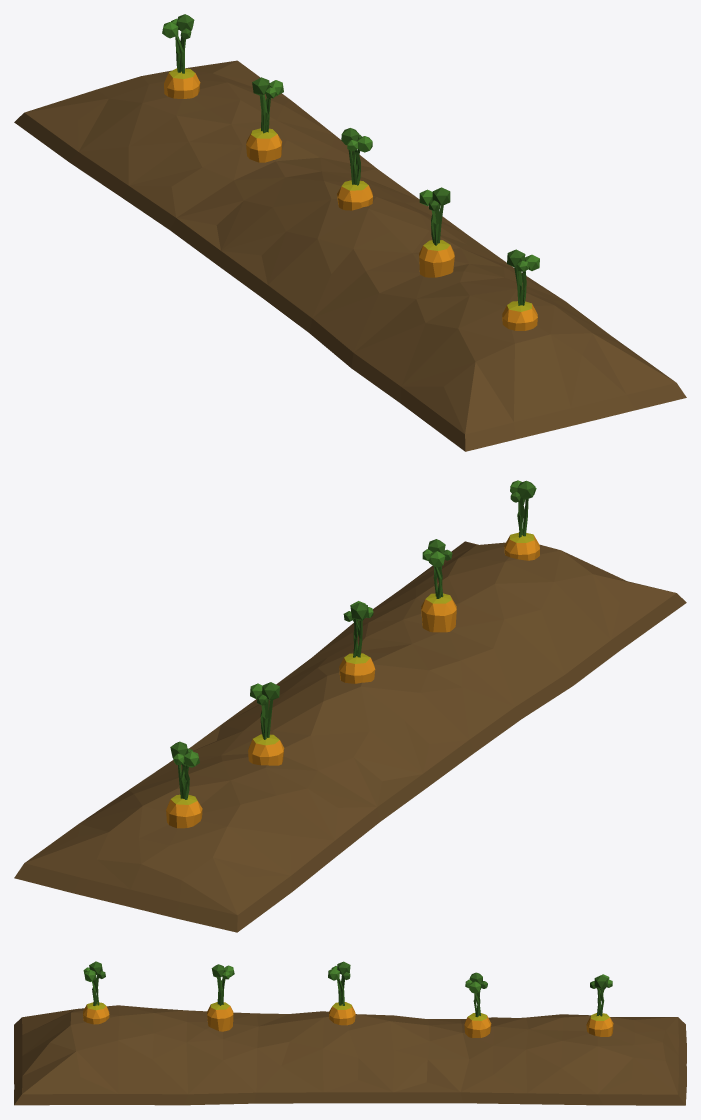
Rendered from cenouras.fbx.
3 renders of one model, top to bottom at view 1: azimuth 30°, elevation 25°; view 2: azimuth 150°, elevation 25°; view 3: azimuth 270°, elevation 25°, orthographic. The views are drawn at different scales.
Visible parts, largest first — view 1: Plane.000, Cone.001, Cone.004, Cone.002, Cone.003, Cone; view 2: Plane.000, Cone.001, Cone.002, Cone.004, Cone, Cone.003; view 3: Plane.000, Cone.001, Cone.004, Cone, Cone.003, Cone.002.
Boxes of the visible parts, bbox=[...] form: Plane.000: bbox=[14, 60, 686, 451]; Cone.001: bbox=[419, 187, 454, 277]; Cone.004: bbox=[246, 77, 283, 162]; Cone.002: bbox=[162, 14, 200, 98]; Cone.003: bbox=[502, 249, 539, 330]; Cone: bbox=[337, 128, 372, 210]; Plane.000: bbox=[14, 541, 686, 932]; Cone.001: bbox=[421, 539, 456, 632]; Cone.002: bbox=[166, 741, 202, 828]; Cone.004: bbox=[248, 682, 284, 765]; Cone: bbox=[339, 601, 375, 683]; Cone.003: bbox=[504, 480, 539, 560]; Plane.000: bbox=[14, 1005, 686, 1105]; Cone.001: bbox=[207, 964, 234, 1031]; Cone.004: bbox=[464, 972, 491, 1038]; Cone: bbox=[328, 961, 355, 1025]; Cone.003: bbox=[83, 961, 109, 1024]; Cone.002: bbox=[586, 974, 613, 1036].
Size of the model in its own units: 203 by 118 by 709.
